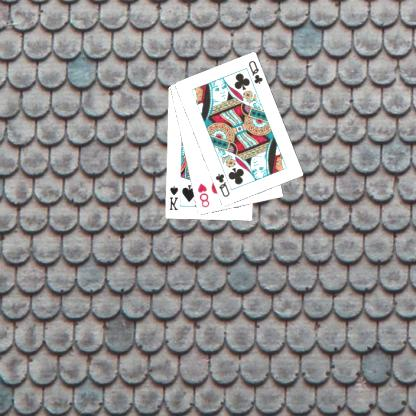8H: (197, 181, 212, 209)
KS: (168, 183, 181, 212)
QC: (214, 170, 233, 198), (247, 58, 266, 86)
